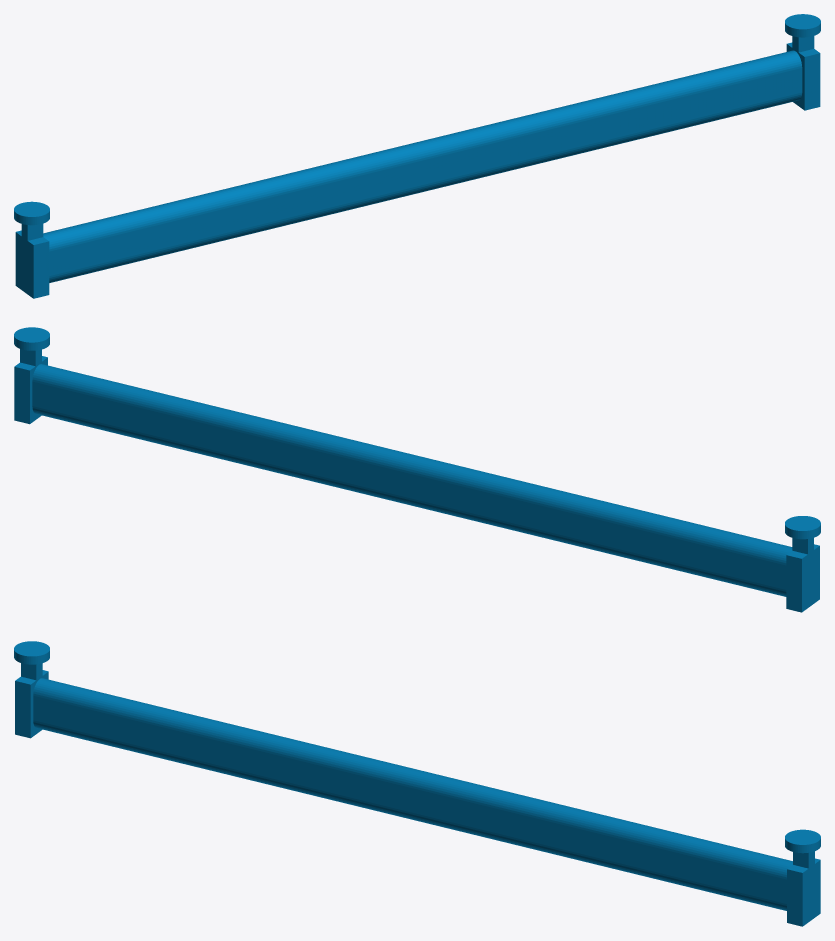
File: new_handle.dae
3 views of the same model, one above another, from view 1: azimuth 30°, elevation 25°; view 2: azimuth 150°, elevation 25°; view 3: azimuth 330°, elevation 25° (orthographic).
Parts seen in each view (by area): view 1: NewHandle; view 2: NewHandle; view 3: NewHandle.
Part boxes in pixels (left/top/right/bottom): NewHandle: left=14, top=14, right=820, bottom=298; NewHandle: left=14, top=327, right=820, bottom=612; NewHandle: left=14, top=641, right=820, bottom=926.
Size of the model in its own units: 0.6512 by 0.026 by 0.0627.
